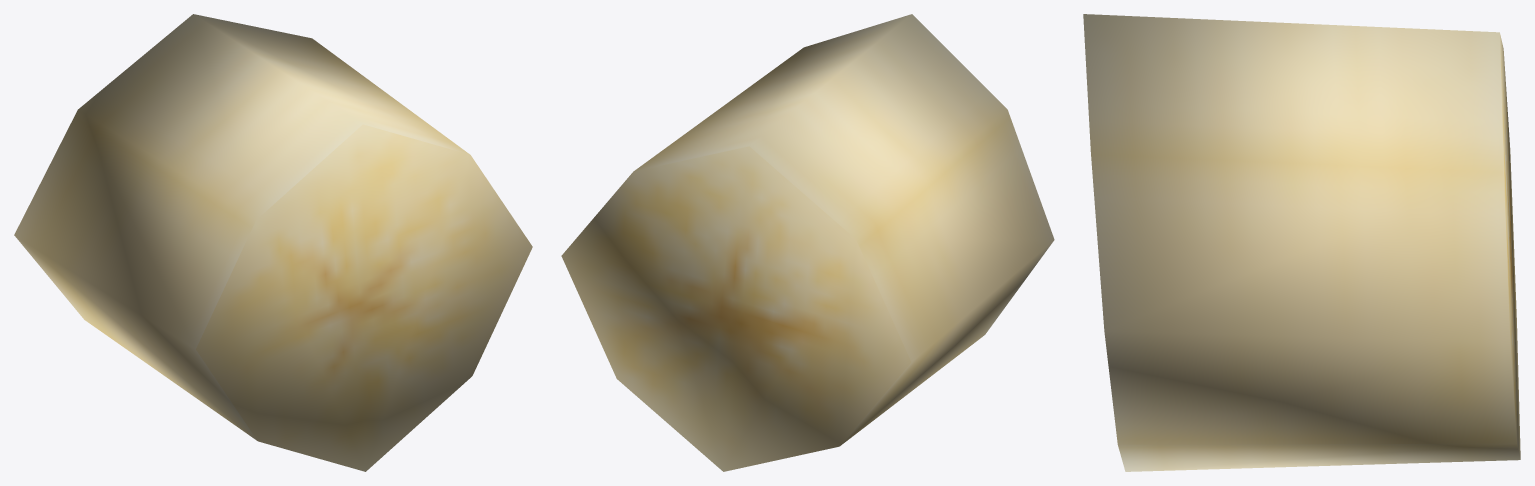
The model's file is jsf_CutBanana_02.fbx.
3 renders of one model, left to right at view 1: azimuth 30°, elevation 25°; view 2: azimuth 150°, elevation 25°; view 3: azimuth 270°, elevation 25°, orthographic. The views are drawn at different scales.
Parts seen in each view (by area): view 1: jsf_CutBanana_02; view 2: jsf_CutBanana_02; view 3: jsf_CutBanana_02.
Boxes of the visible parts, x1=… form: jsf_CutBanana_02: x1=14, y1=14, x2=532, y2=471; jsf_CutBanana_02: x1=561, y1=14, x2=1054, y2=471; jsf_CutBanana_02: x1=1083, y1=14, x2=1520, y2=471.
Size of the model in its own units: 4.05 by 3.84 by 3.41.
